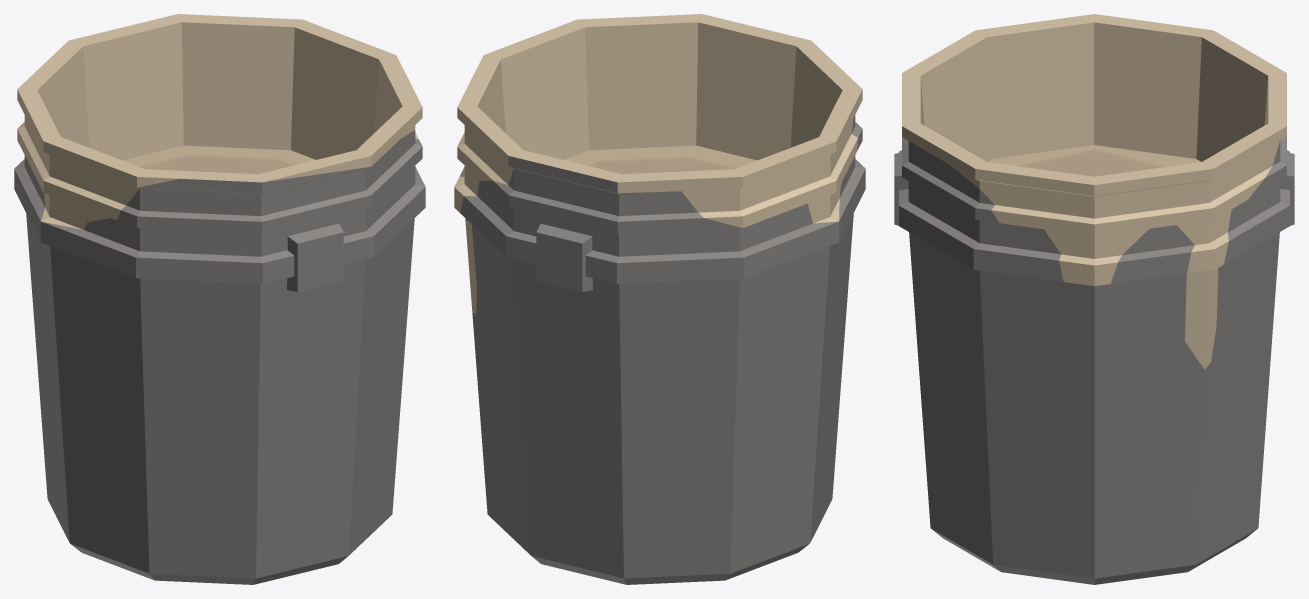
File: SM_Prop_Paint_Bucket_Open_01.obj
3 views of the same model, side by side, from view 1: azimuth 30°, elevation 25°; view 2: azimuth 150°, elevation 25°; view 3: azimuth 270°, elevation 25° (orthographic).
Visible parts, largest first — view 1: SM_Prop_Paint_Bucket_Open_01_0; view 2: SM_Prop_Paint_Bucket_Open_01_0; view 3: SM_Prop_Paint_Bucket_Open_01_0.
Part boxes in pixels (x1=…): SM_Prop_Paint_Bucket_Open_01_0: x1=14, y1=14, x2=425, y2=584; SM_Prop_Paint_Bucket_Open_01_0: x1=454, y1=14, x2=865, y2=584; SM_Prop_Paint_Bucket_Open_01_0: x1=894, y1=14, x2=1294, y2=584.
Bounding box in the file's own units: 0.4571 × 0.5129 × 0.4448.
Materials: 1 (1 with a texture image).
